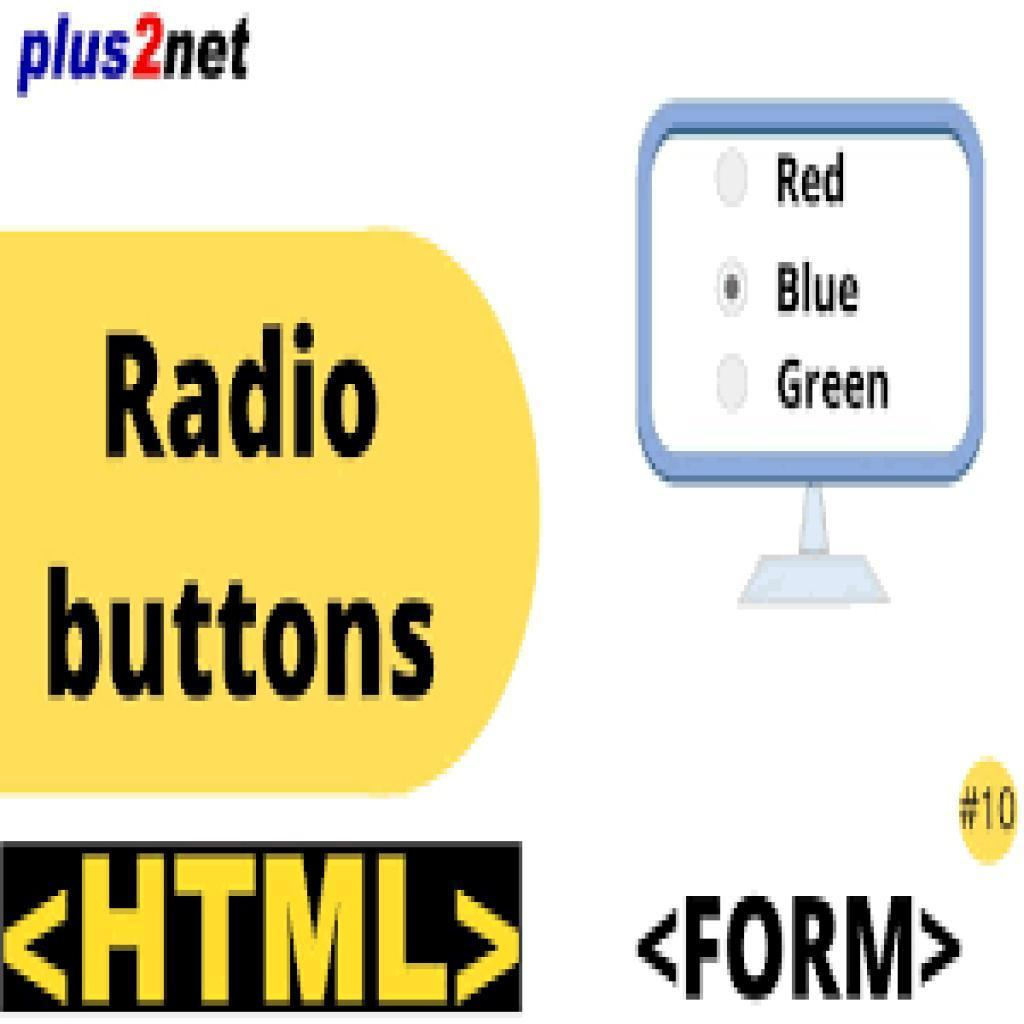radio: (711, 256, 752, 321), (712, 145, 751, 213), (714, 355, 755, 415)
